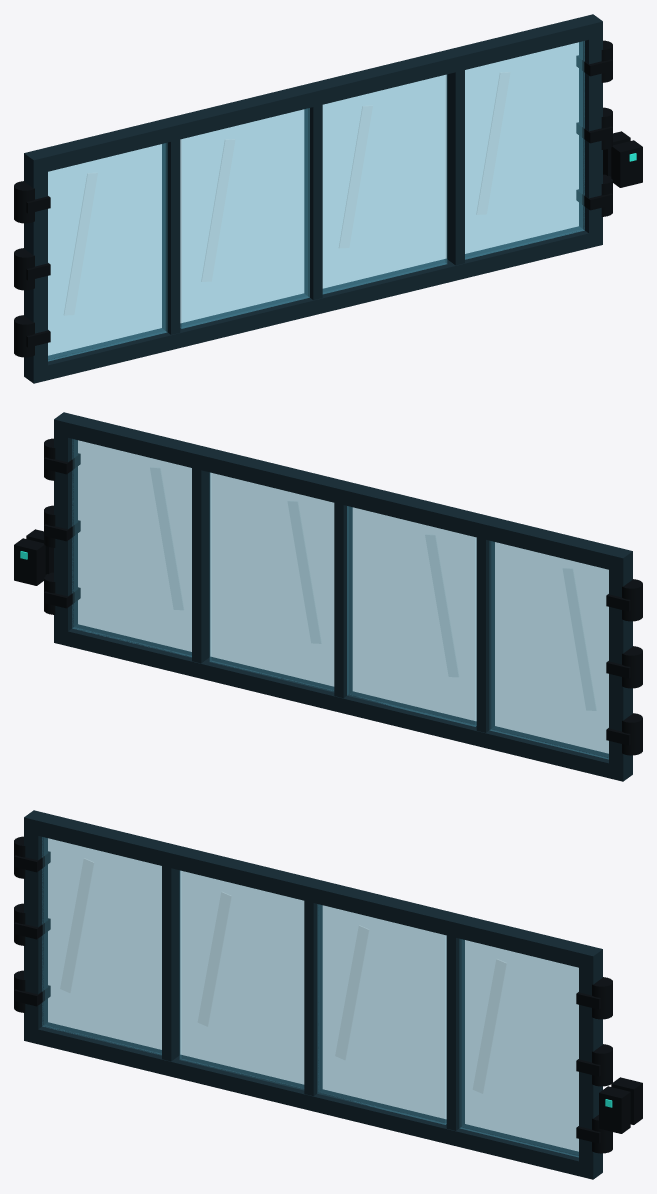
Rendered from screen_window_4pan_1level.glb.
3 renders of one model, top to bottom at view 1: azimuth 30°, elevation 25°; view 2: azimuth 150°, elevation 25°; view 3: azimuth 330°, elevation 25°, orthographic.
Parts seen in each view (by area): view 1: Glass_Pane_2, Glass_Pane_3, Glass_Pane_4, Glass_Pane_1, Frame_Top, Frame_Bottom, Frame_Right, Mullion_1, Mullion_2, Mullion_3, Frame_Left, Reflection_Stripe_1 (+7 smaller); view 2: Glass_Pane_2, Glass_Pane_3, Glass_Pane_4, Glass_Pane_1, Frame_Top, Frame_Bottom, Frame_Right, Mullion_1, Mullion_2, Mullion_3, Frame_Left, Control_Back_Box (+3 smaller); view 3: Glass_Pane_3, Glass_Pane_2, Glass_Pane_1, Glass_Pane_4, Frame_Top, Frame_Bottom, Frame_Left, Mullion_3, Mullion_2, Mullion_1, Frame_Right, Reflection_Stripe_3 (+7 smaller).
Part boxes in pixels (left/top/right/bottom): Glass_Pane_2: left=180, top=108, right=309, bottom=328; Glass_Pane_3: left=322, top=74, right=447, bottom=294; Glass_Pane_4: left=465, top=41, right=584, bottom=259; Glass_Pane_1: left=48, top=143, right=167, bottom=361; Frame_Top: left=24, top=14, right=602, bottom=174; Frame_Bottom: left=24, top=226, right=602, bottom=383; Frame_Right: left=579, top=36, right=602, bottom=233; Mullion_1: left=162, top=139, right=180, bottom=334; Mullion_2: left=304, top=105, right=322, bottom=300; Mullion_3: left=446, top=70, right=464, bottom=265; Frame_Left: left=24, top=168, right=47, bottom=368; Reflection_Stripe_1: left=64, top=173, right=97, bottom=314; Glass_Pane_2: left=347, top=506, right=476, bottom=726; Glass_Pane_3: left=209, top=472, right=334, bottom=691; Glass_Pane_4: left=72, top=439, right=191, bottom=657; Glass_Pane_1: left=489, top=541, right=608, bottom=759; Frame_Top: left=54, top=412, right=632, bottom=572; Frame_Bottom: left=54, top=624, right=632, bottom=781; Frame_Right: left=54, top=434, right=77, bottom=631; Mullion_1: left=476, top=537, right=494, bottom=732; Mullion_2: left=334, top=503, right=352, bottom=698; Mullion_3: left=192, top=468, right=210, bottom=663; Frame_Left: left=609, top=566, right=632, bottom=766; Control_Back_Box: left=14, top=538, right=45, bottom=585; Glass_Pane_3: left=317, top=904, right=446, bottom=1124; Glass_Pane_2: left=179, top=870, right=304, bottom=1089; Glass_Pane_1: left=42, top=837, right=161, bottom=1055; Glass_Pane_4: left=459, top=939, right=578, bottom=1157; Frame_Top: left=24, top=810, right=602, bottom=970; Frame_Bottom: left=24, top=1022, right=602, bottom=1179; Frame_Left: left=24, top=832, right=47, bottom=1029; Mullion_3: left=446, top=935, right=464, bottom=1130; Mullion_2: left=304, top=901, right=322, bottom=1095; Mullion_1: left=162, top=866, right=180, bottom=1061; Frame_Right: left=579, top=964, right=602, bottom=1164; Reflection_Stripe_3: left=335, top=925, right=368, bottom=1059.
Size of the model in its own units: 4.33 by 1.5 by 0.3008.
